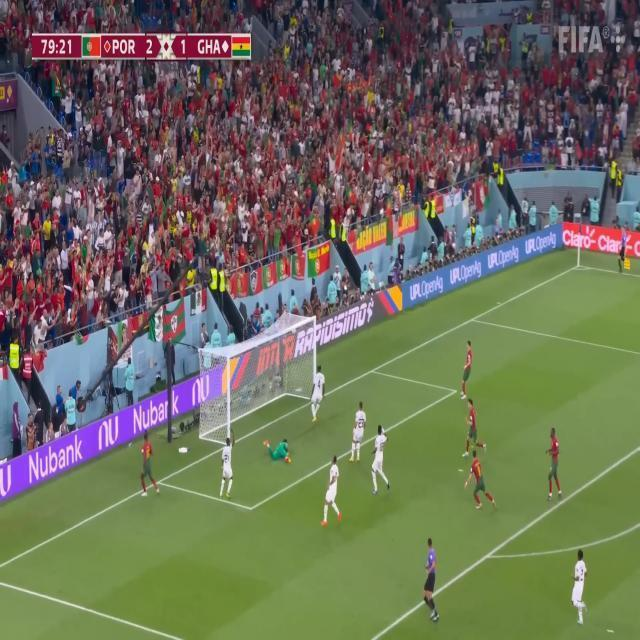player: (466, 448, 498, 509), (322, 453, 343, 528), (140, 428, 162, 498), (462, 396, 487, 457), (572, 549, 591, 628), (546, 420, 564, 503), (217, 433, 237, 503), (372, 423, 390, 498), (350, 395, 367, 470), (262, 432, 296, 469), (310, 362, 326, 423), (461, 338, 474, 402)
